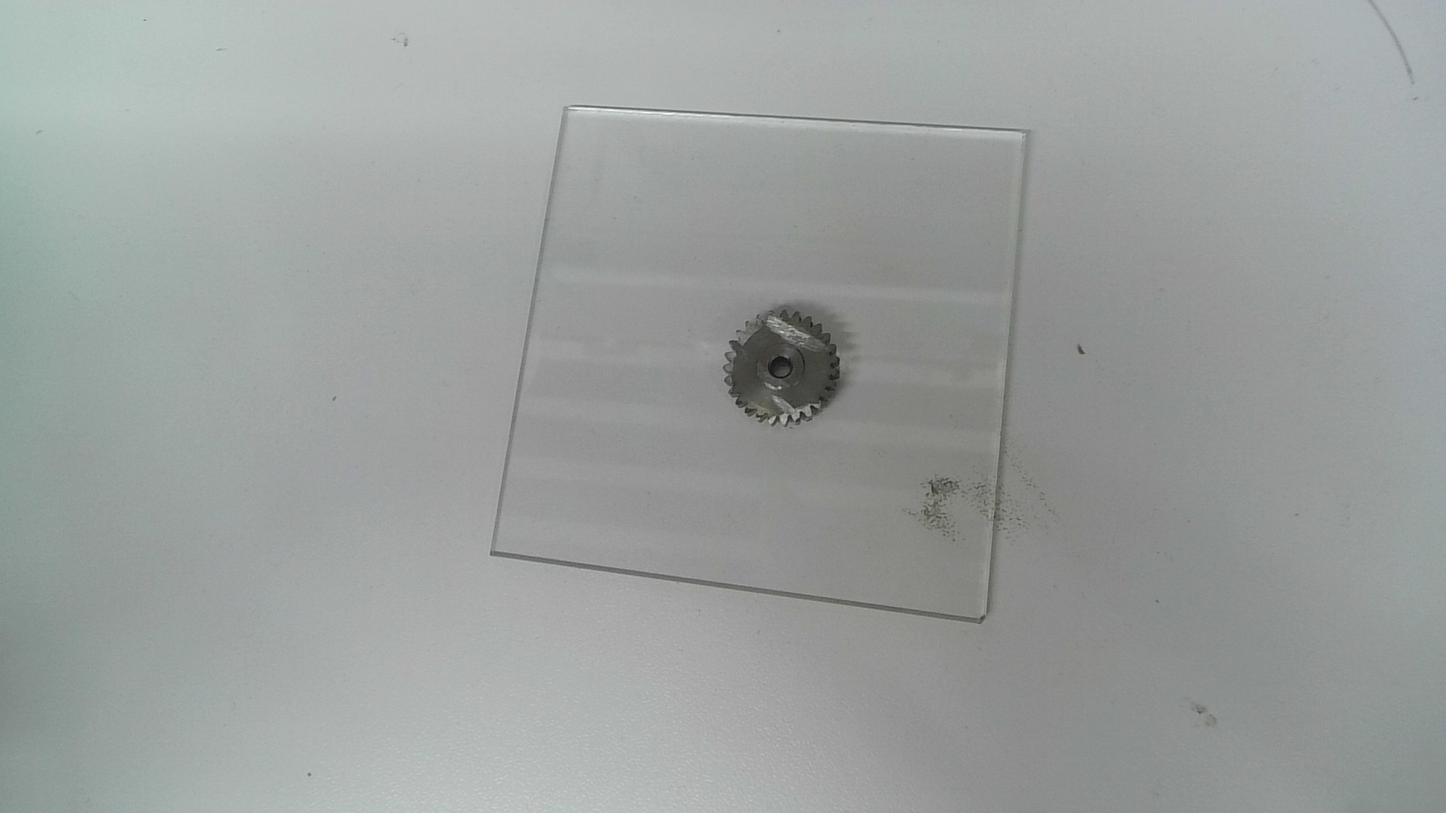gear: (721, 305, 843, 430)
